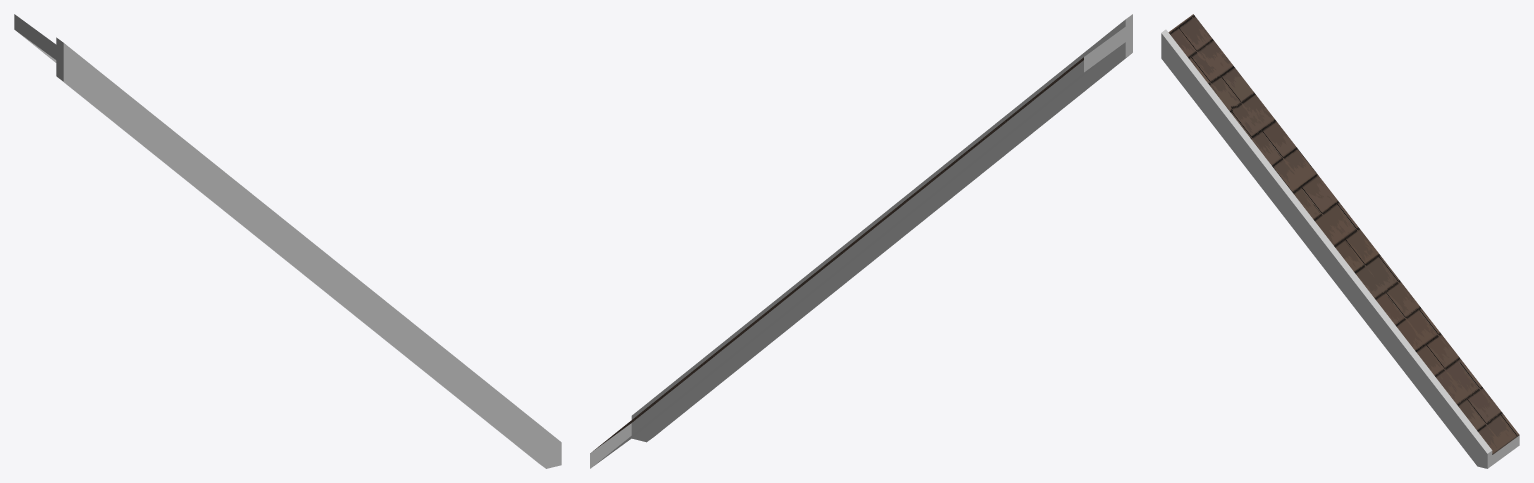
The model's file is Roof_02.FBX.
The picture shows the model from 3 angles, left to right: view 1: azimuth 30°, elevation 25°; view 2: azimuth 150°, elevation 25°; view 3: azimuth 330°, elevation 25°; orthographic projection. The views are drawn at different scales.
Parts seen in each view (by area): view 1: Box099; view 2: Box099; view 3: Box099.
Boxes of the visible parts, box(x1,y1,x2,y2) form: Box099: box(14, 14, 561, 468); Box099: box(590, 14, 1132, 468); Box099: box(1161, 14, 1519, 468).
Bounding box in the file's own units: 500 × 522 × 85.62.
